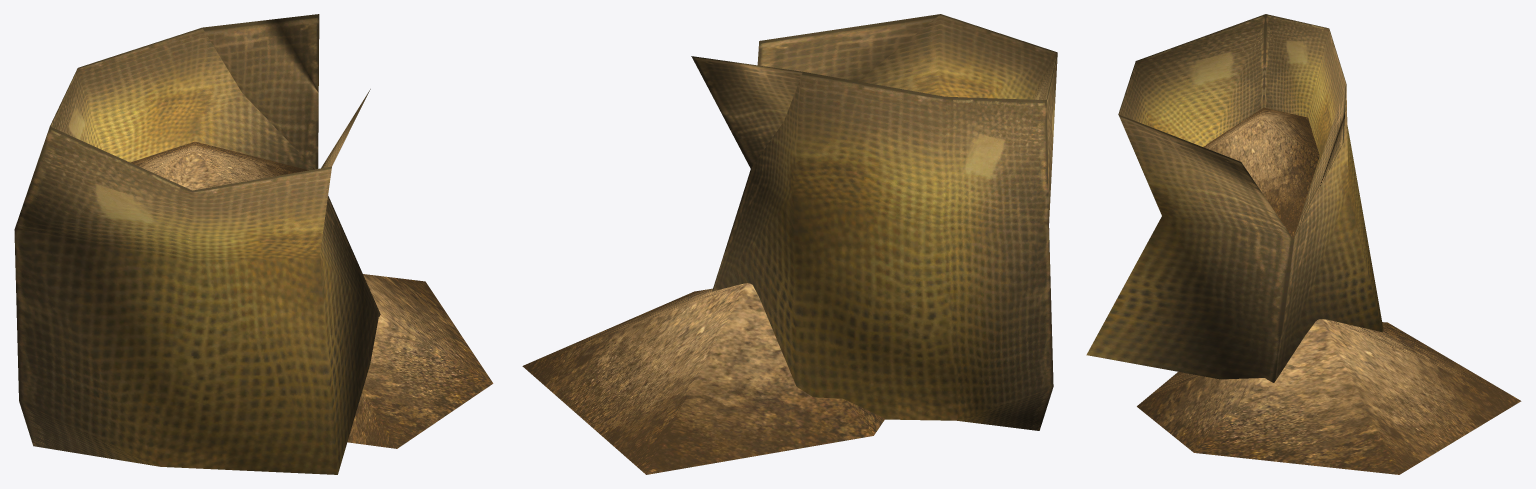
The model's file is grainsacs02.obj.
3 views of the same model, side by side, from view 1: azimuth 30°, elevation 25°; view 2: azimuth 150°, elevation 25°; view 3: azimuth 270°, elevation 25° (orthographic). The views are drawn at different scales.
Visible parts, largest first — view 1: grainsacs02; view 2: grainsacs02; view 3: grainsacs02.
Boxes of the visible parts, bbox=[...] form: grainsacs02: bbox=[14, 14, 493, 474]; grainsacs02: bbox=[522, 14, 1057, 474]; grainsacs02: bbox=[1086, 14, 1521, 474].
Size of the model in its own units: 1.54 by 1.09 by 1.45.
1 material, 1 textured.
